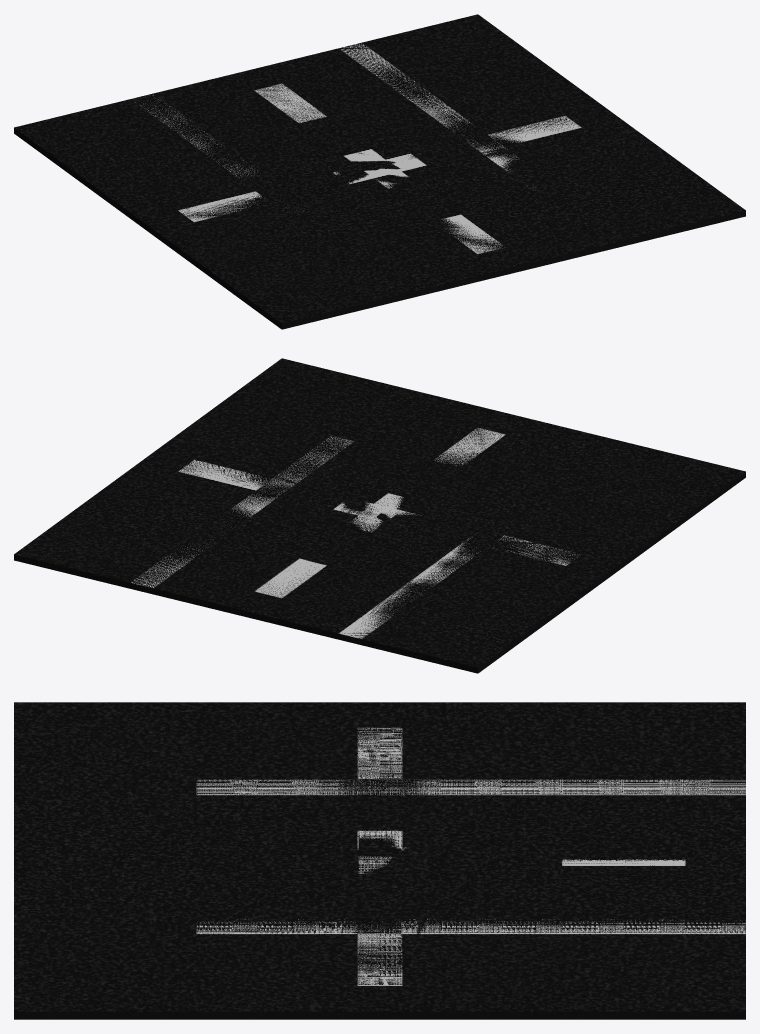
File: road_tiles.glb
3 views of the same model, one above another, from view 1: azimuth 30°, elevation 25°; view 2: azimuth 150°, elevation 25°; view 3: azimuth 270°, elevation 25° (orthographic). The views are drawn at different scales.
Visible parts, largest first — view 1: road_straight -col, road_T -col, road_parking -col, road_blank-col, road_dead_end -col, road_4way -col; view 2: road_straight -col, road_parking -col, road_T -col, road_blank-col, road_dead_end -col, road_4way -col; view 3: road_parking -col, road_straight -col, road_dead_end -col, road_T -col, road_blank-col, road_4way -col.
Part boxes in pixels (x1,y1,x2,y2): road_straight -col: (14, 14, 745, 329); road_T -col: (23, 16, 742, 328); road_parking -col: (14, 14, 744, 329); road_blank-col: (15, 15, 743, 327); road_dead_end -col: (180, 18, 686, 267); road_4way -col: (162, 97, 632, 239); road_straight -col: (14, 358, 745, 673); road_parking -col: (14, 359, 745, 671); road_T -col: (16, 360, 736, 667); road_blank-col: (16, 359, 744, 671); road_dead_end -col: (27, 363, 576, 612); road_4way -col: (126, 440, 633, 585); road_parking -col: (14, 702, 745, 1019); road_straight -col: (14, 702, 745, 1019); road_dead_end -col: (14, 719, 745, 1009); road_T -col: (14, 702, 745, 1010); road_blank-col: (14, 702, 745, 1019); road_4way -col: (319, 702, 440, 1011).
Bounding box in the file's own units: 8 × 0.1 × 8.
8 materials, 6 textured.
